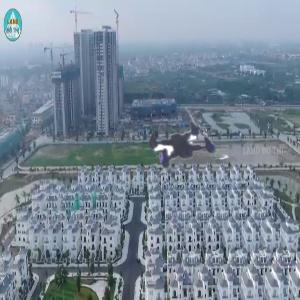drone: (118, 84, 246, 212)
